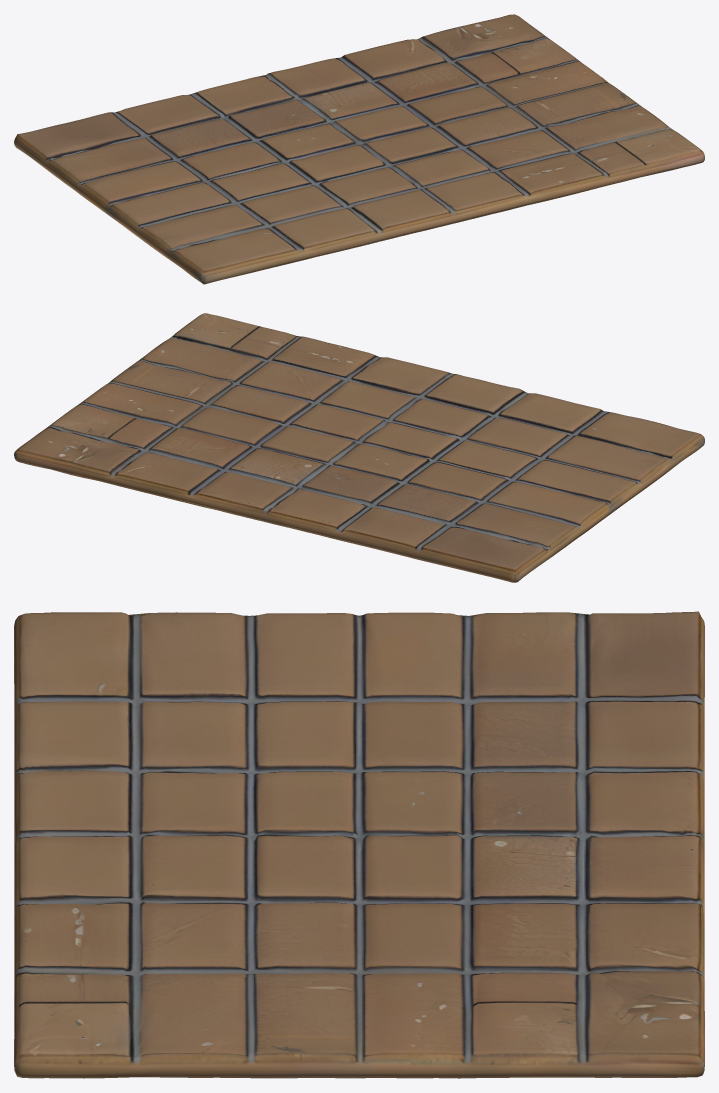
The model's file is piso.obj.
3 renders of one model, top to bottom at view 1: azimuth 30°, elevation 25°; view 2: azimuth 150°, elevation 25°; view 3: azimuth 270°, elevation 25°, orthographic. The views are drawn at different scales.
Parts seen in each view (by area): view 1: tripo_node_969cbbe3-2249-4538-9148-b3cf3ee2a8fd; view 2: tripo_node_969cbbe3-2249-4538-9148-b3cf3ee2a8fd; view 3: tripo_node_969cbbe3-2249-4538-9148-b3cf3ee2a8fd.
Boxes of the visible parts, x1=… form: tripo_node_969cbbe3-2249-4538-9148-b3cf3ee2a8fd: x1=14, y1=14, x2=704, y2=284; tripo_node_969cbbe3-2249-4538-9148-b3cf3ee2a8fd: x1=14, y1=313, x2=704, y2=582; tripo_node_969cbbe3-2249-4538-9148-b3cf3ee2a8fd: x1=14, y1=611, x2=704, y2=1078.
Size of the model in its own units: 0.9995 by 0.0254 by 0.6523.
Materials: 1 (1 with a texture image).
